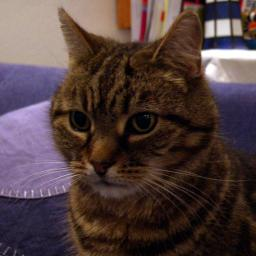catnose: (89, 158, 115, 177)
